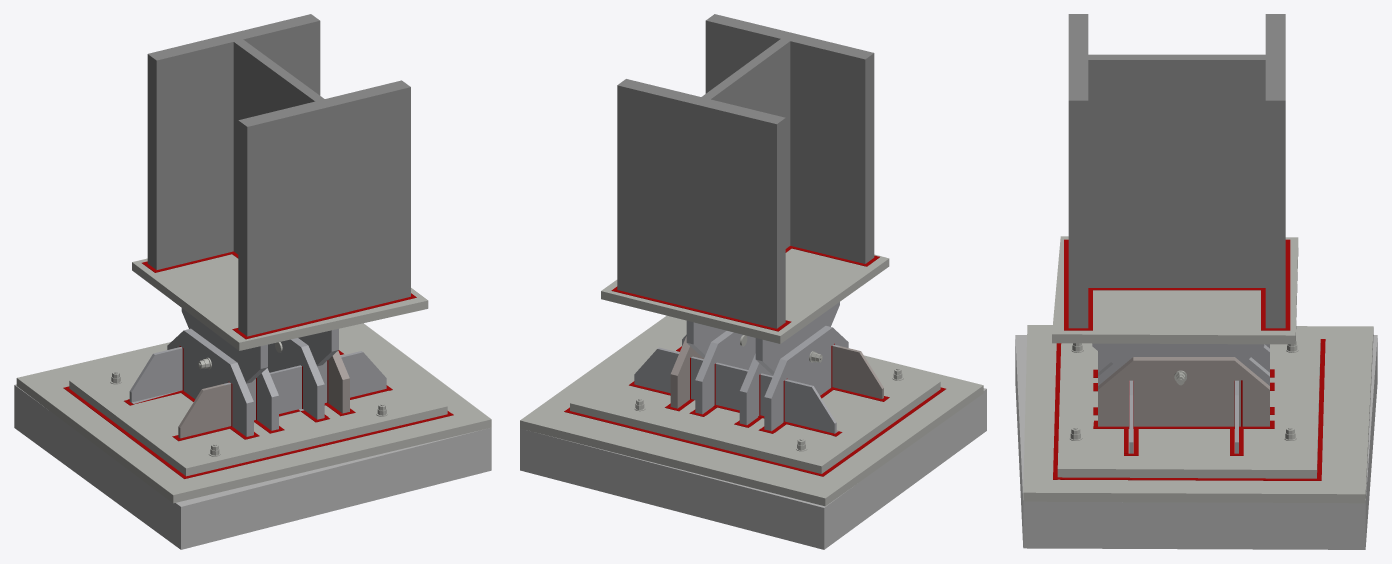
File: maqueta-MA07.glb
3 renders of one model, left to right at view 1: azimuth 30°, elevation 25°; view 2: azimuth 150°, elevation 25°; view 3: azimuth 270°, elevation 25°, orthographic. The views are drawn at different scales.
Visible parts, largest first — view 1: geometry_1, 0______011.obj, geometry_5, 3______011.obj, 50_____011.obj, 7______011.obj; view 2: geometry_1, 0______011.obj, geometry_5, 3______011.obj, 50_____011.obj, 7______011.obj; view 3: geometry_1, 0______011.obj, geometry_5, 7______011.obj, 50_____011.obj, 3______011.obj.
Part boxes in pixels (<box>): geometry_1: <box>147,14,410,336</box>; 0______011.obj: <box>16,254,491,503</box>; geometry_5: <box>14,384,491,549</box>; 3______011.obj: <box>129,308,386,436</box>; 50_____011.obj: <box>63,251,453,478</box>; 7______011.obj: <box>178,351,349,438</box>; geometry_1: <box>617,14,874,328</box>; 0______011.obj: <box>520,248,983,506</box>; geometry_5: <box>520,388,986,549</box>; 3______011.obj: <box>634,302,848,433</box>; 50_____011.obj: <box>564,246,945,476</box>; 7______011.obj: <box>670,336,883,408</box>; geometry_1: <box>1068,14,1285,328</box>; 0______011.obj: <box>1023,236,1373,503</box>; geometry_5: <box>1015,335,1377,549</box>; 7______011.obj: <box>1098,357,1269,426</box>; 50_____011.obj: <box>1053,239,1325,480</box>; 3______011.obj: <box>1092,343,1269,453</box>.
Bounding box in the file's own units: 10.14 × 11.62 × 9.17.
